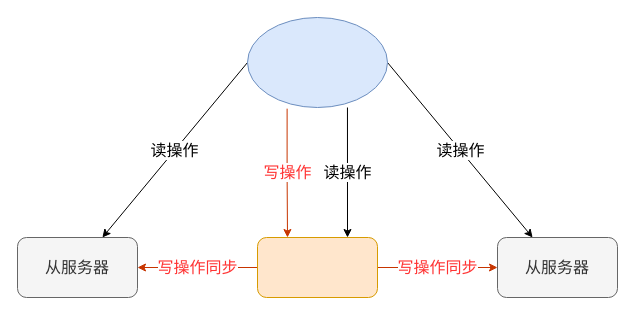
Image size: 635x315. Some labels were removed from this diagram. The centre of each missing label's shape, as x and y in pixels:
主服务器: (317,267)
客户端: (317,62)
